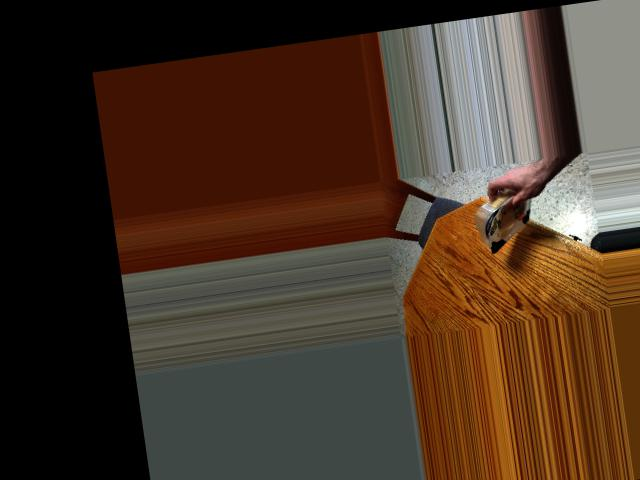cheese: (465, 186, 555, 253)
